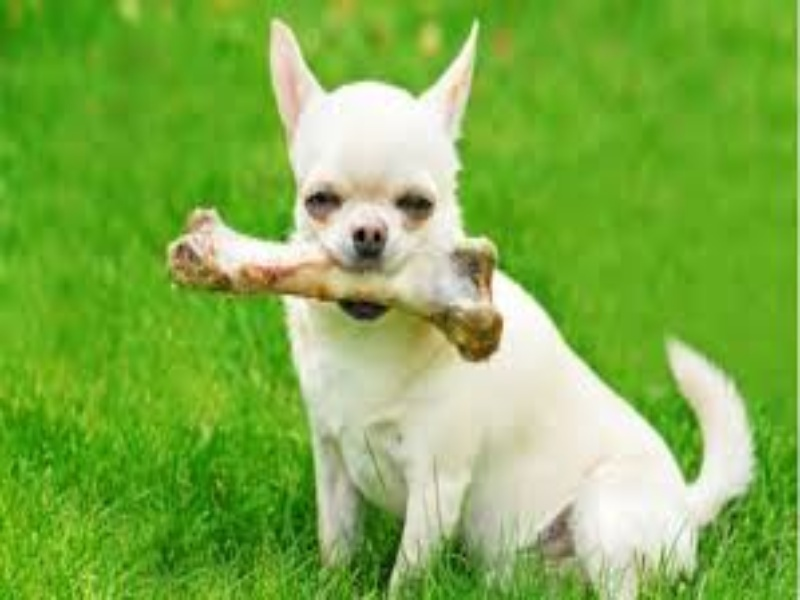dog: (261, 11, 763, 591)
